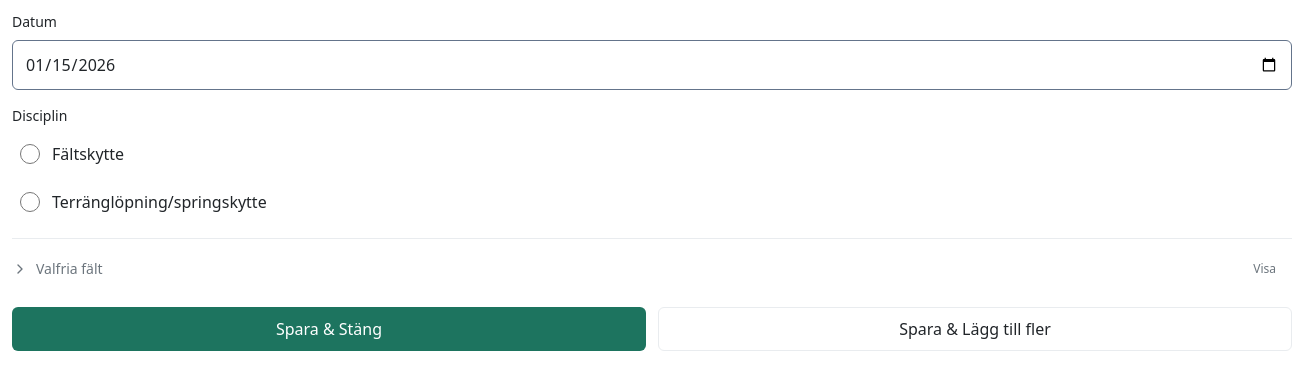
Test: CompetitionPerformanceForm › validation › shows error when discipline not selected
Step 1. Click the button "Spara & Stäng" → click(329, 329), box [12,307,646,351]
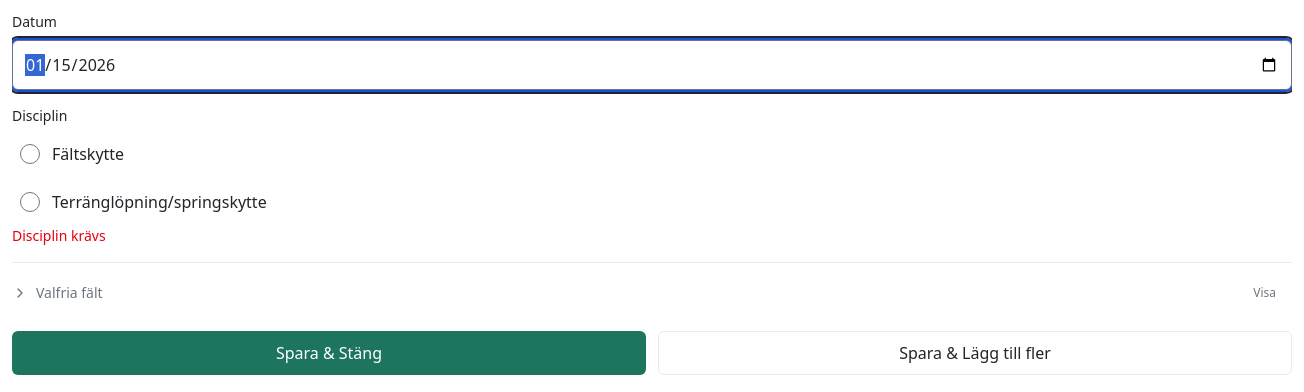
Now the text "Disciplin krävs" is shown, box [12,226,106,245]
